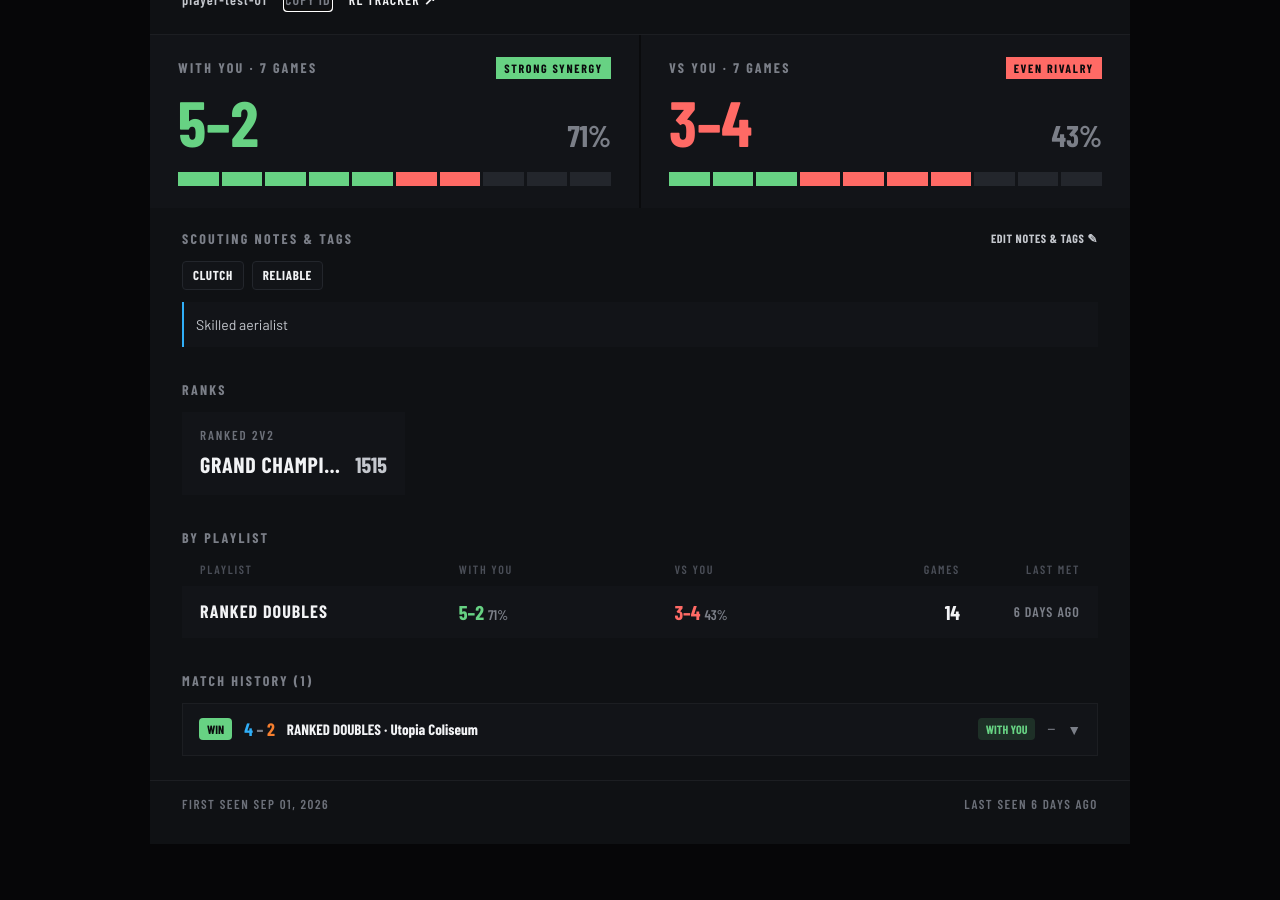
Test: PlayerProfileDialog › toggles Box Score accordion inside match history
(page scrolled)
Click the button with test id "profile-match-row": (216, 729) [199,718,1081,740]
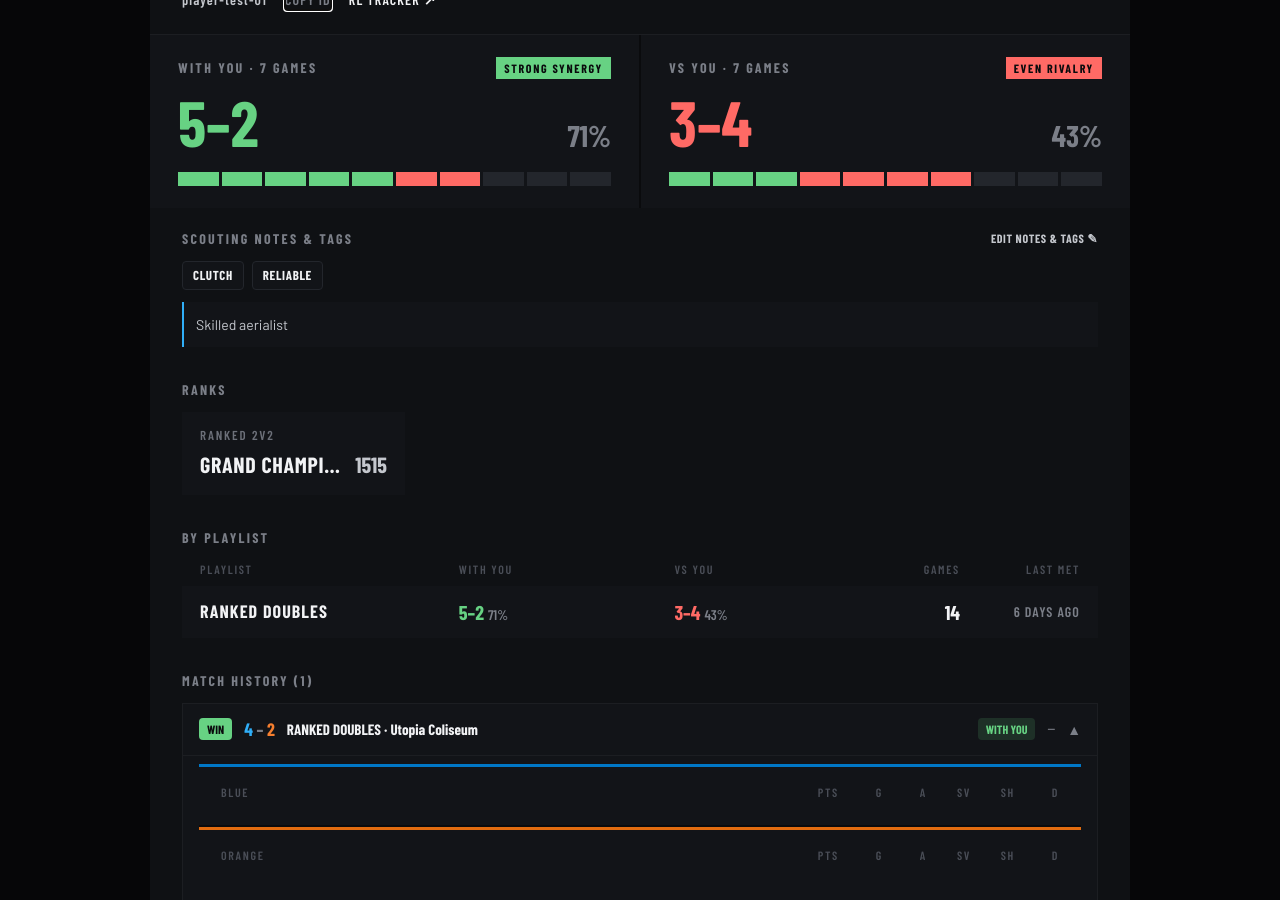
Check: the element with test id "box-score-blue" is shown, box [199,764,1081,825]
